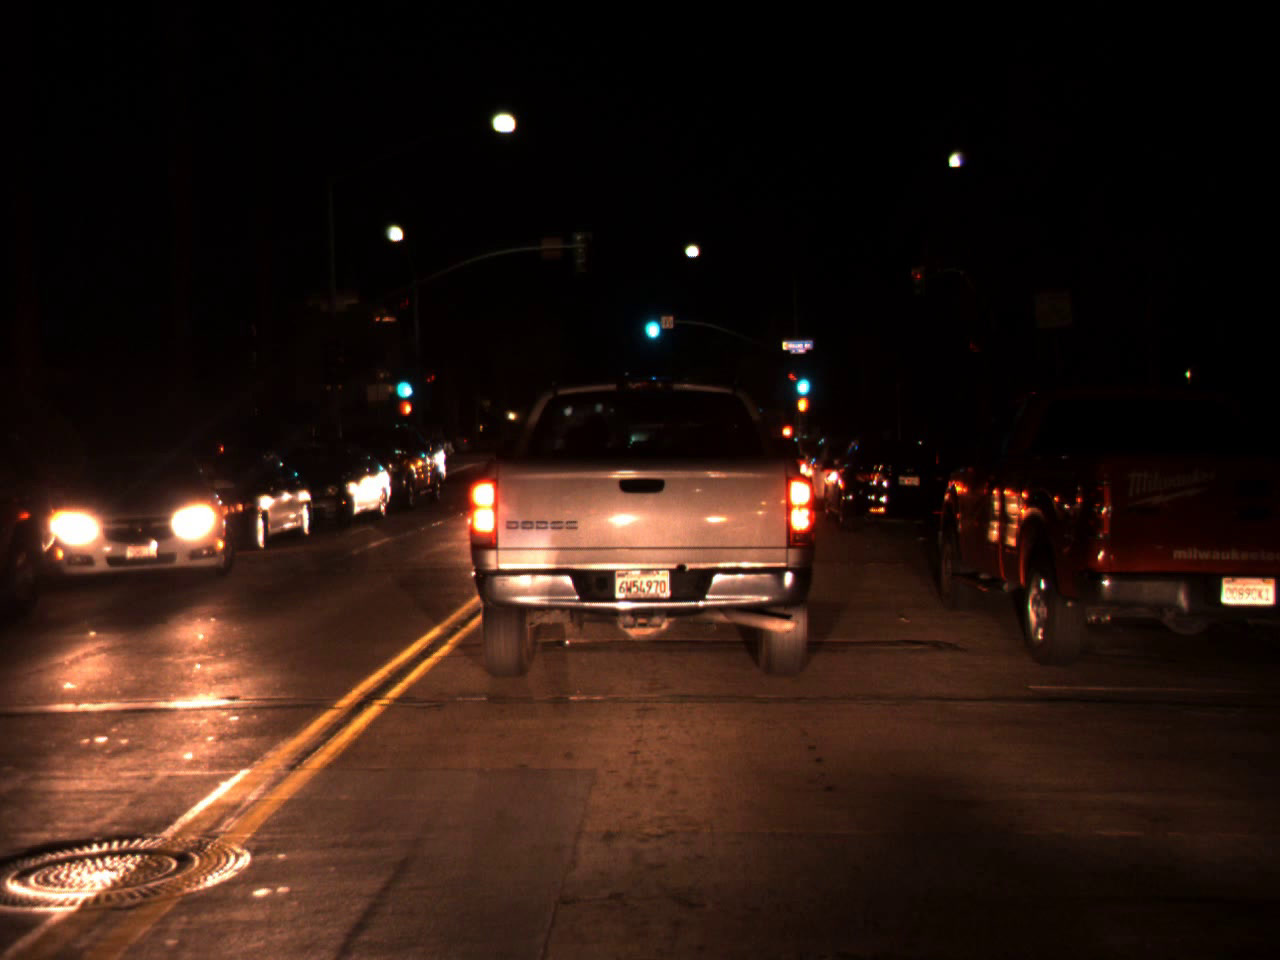go: (639, 299, 662, 344), (392, 361, 413, 403), (792, 359, 811, 401)
